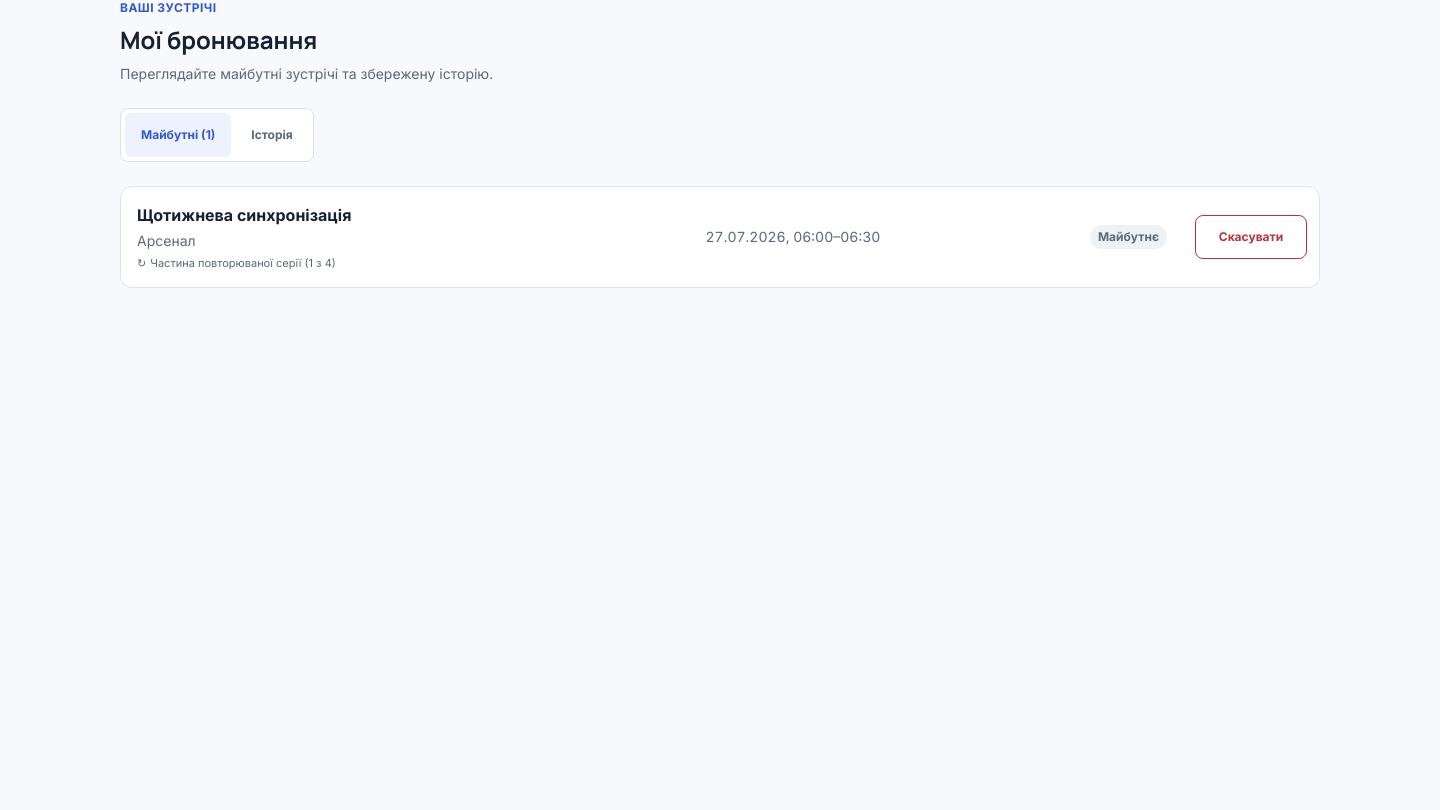
it: MyBookingsPage › supports cancelling only one occurrence or the whole series
Click the button with aria-label "Скасувати бронювання «Щотижнева синхронізація»": (1251, 237) [1195,215,1307,259]
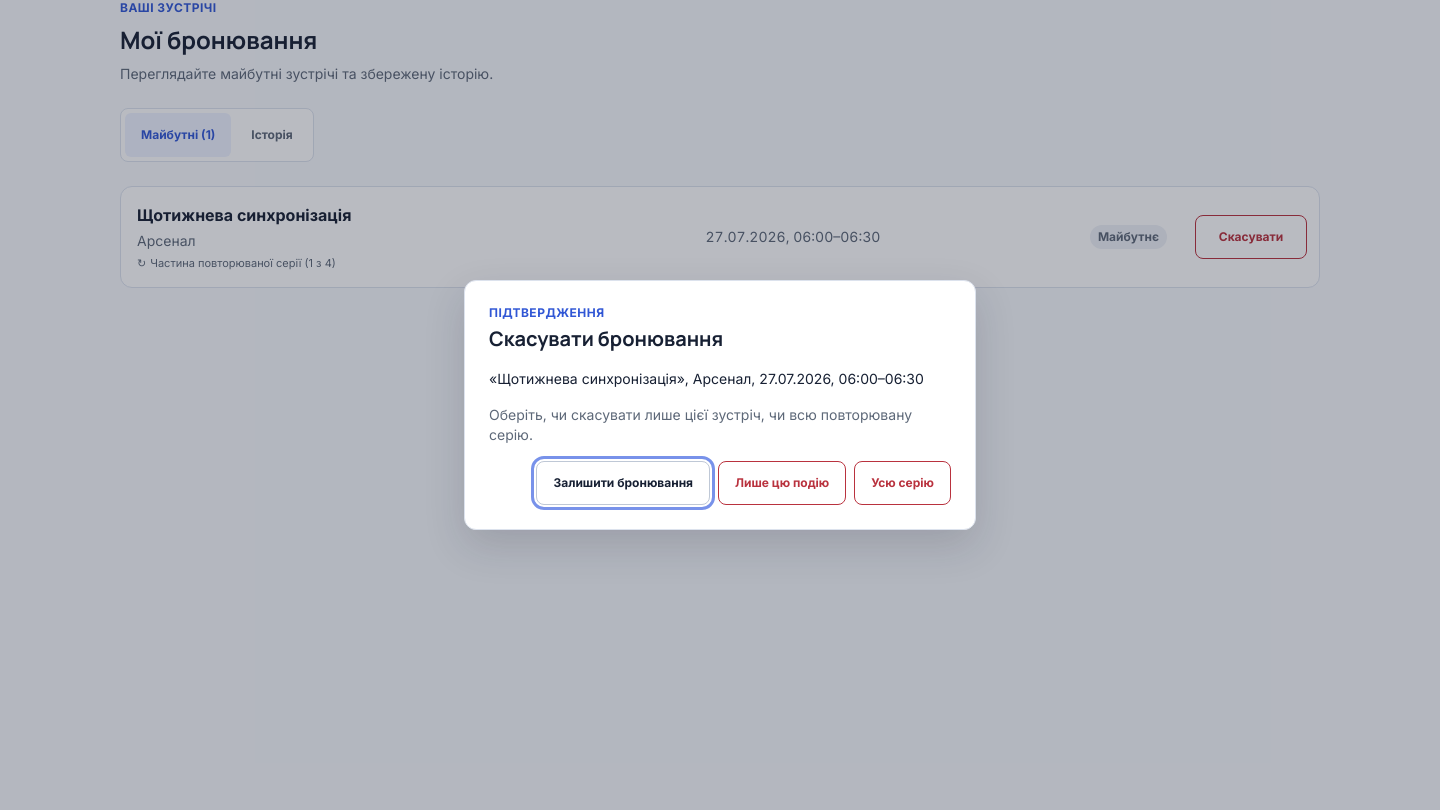
Expected: the button "Лише цю подію" is enabled, [718,461,846,505]
Expected: the button "Усю серію" is enabled
Click the button "Усю серію": (903, 483) [854,461,951,505]
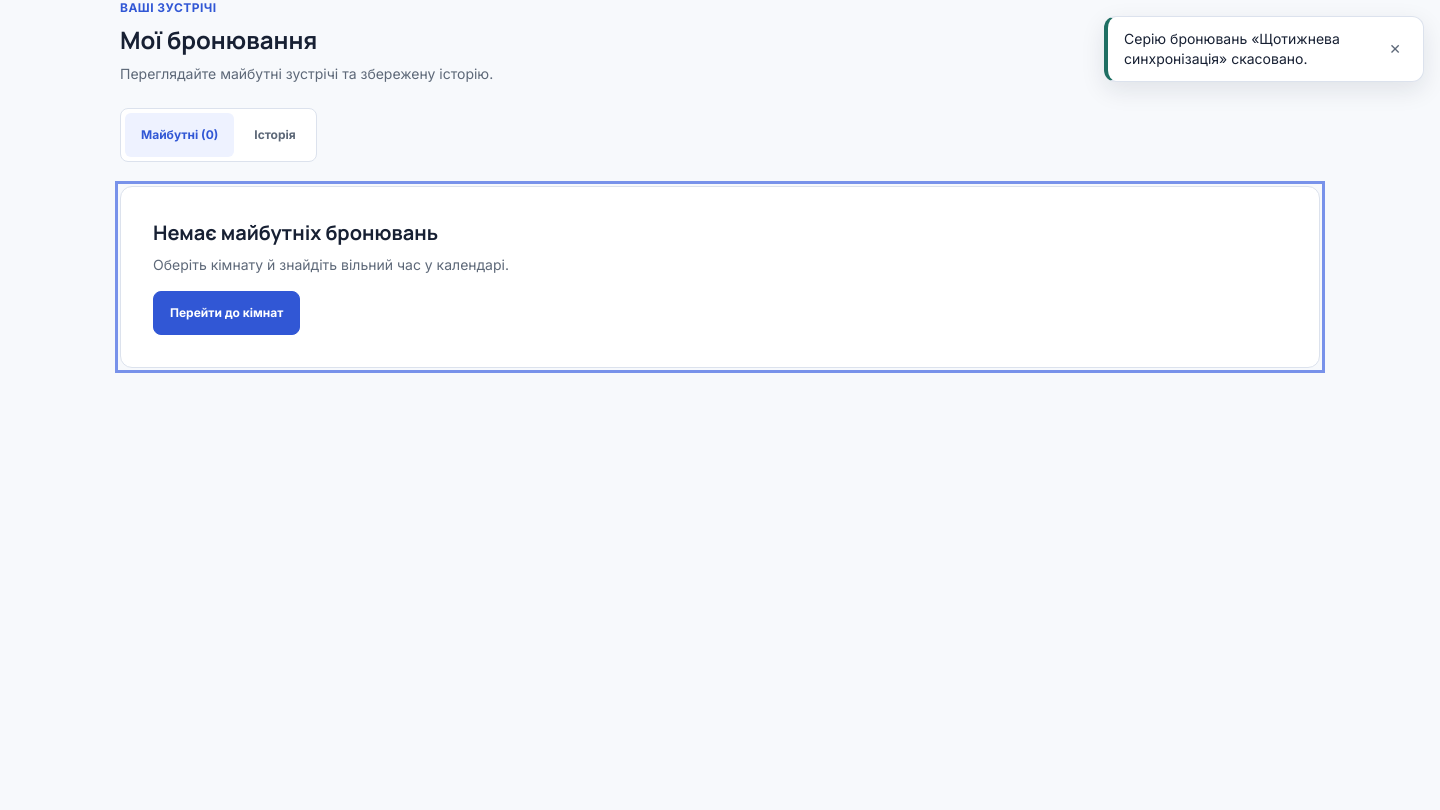
Expected: the heading "Скасувати бронювання" is gone
Expected: the message shows "Серію бронювань «Щотижнева синхронізація» скасовано.", [1124,30,1340,67]
